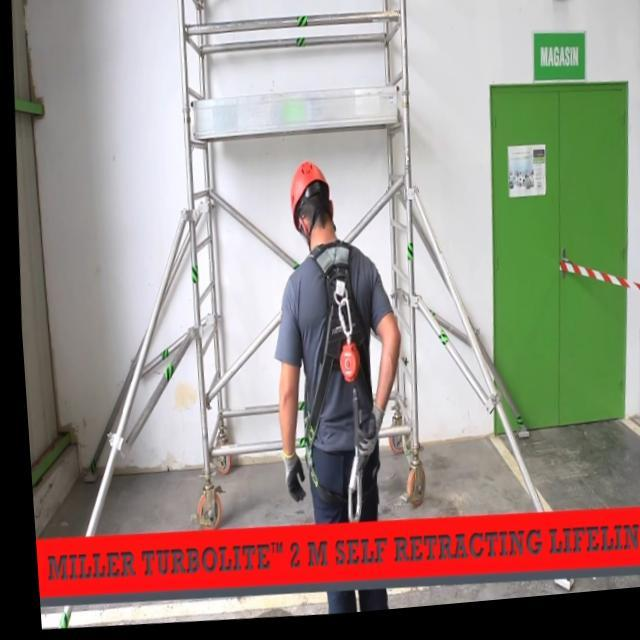belt: (277, 240, 390, 528)
